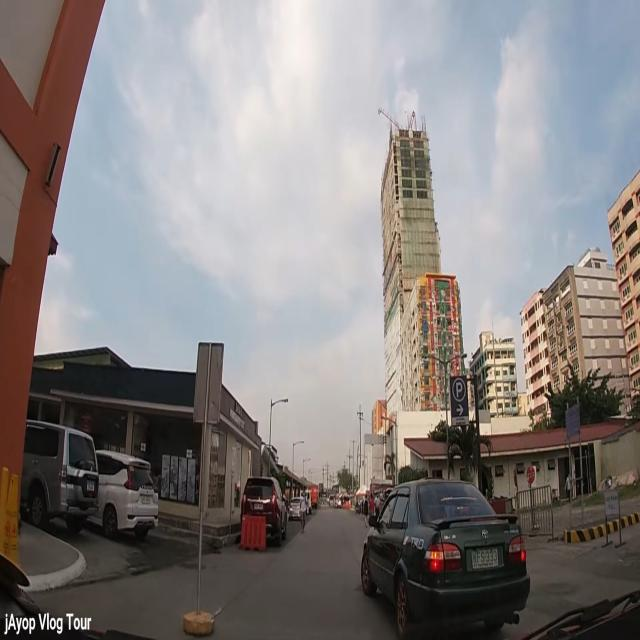car: (360, 479, 530, 634), (19, 420, 99, 532), (84, 450, 160, 540), (240, 476, 286, 544), (289, 498, 300, 520)
